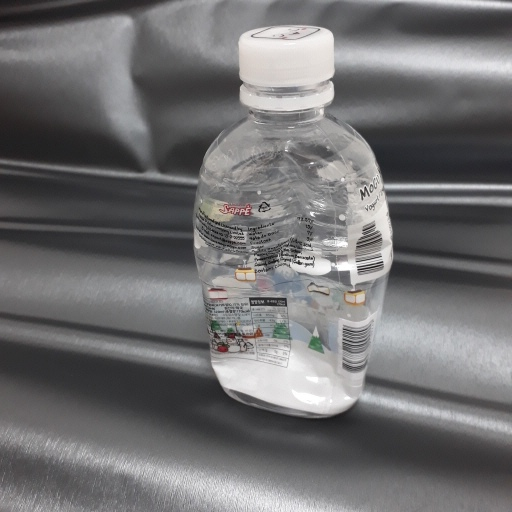Plastic_0: (195, 26, 393, 416)
